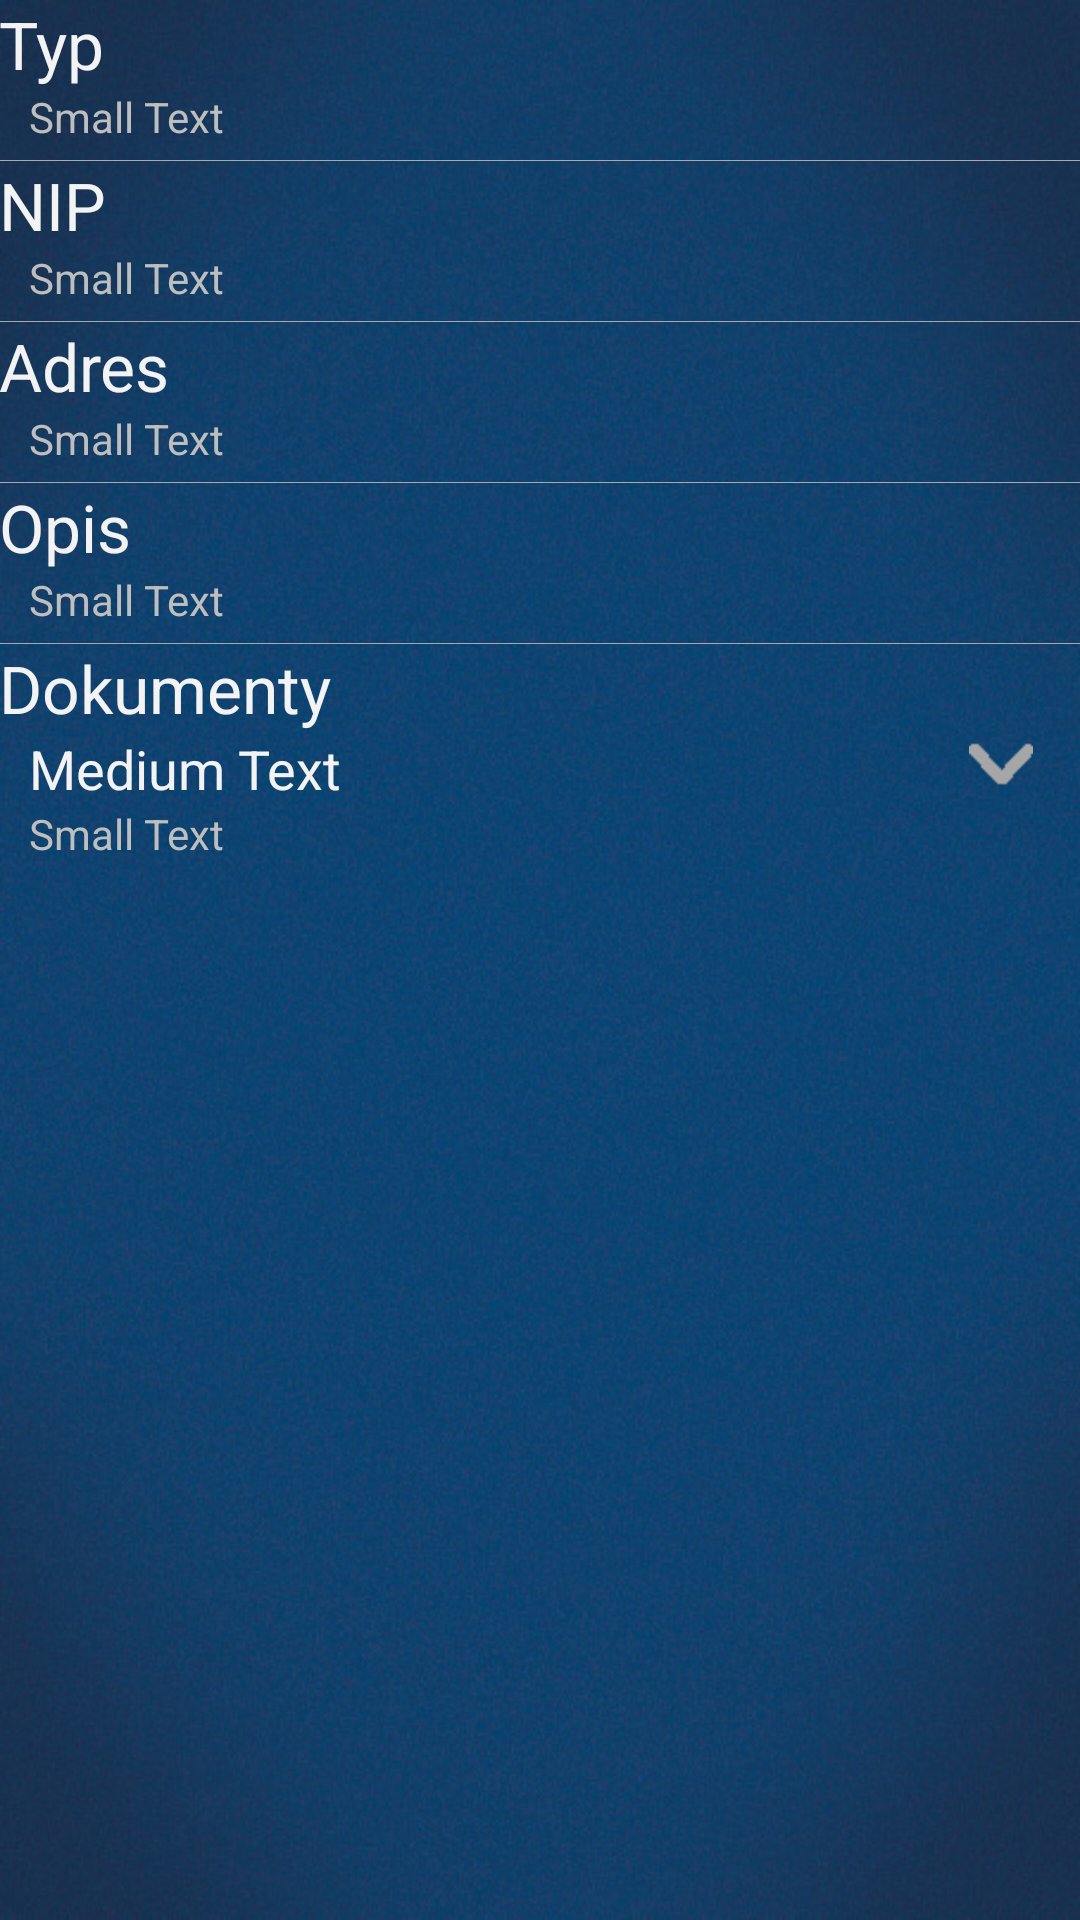

Screen size 1080x1920. Icon name, then its center in pixels as (x,y):
down: (1001,764)
